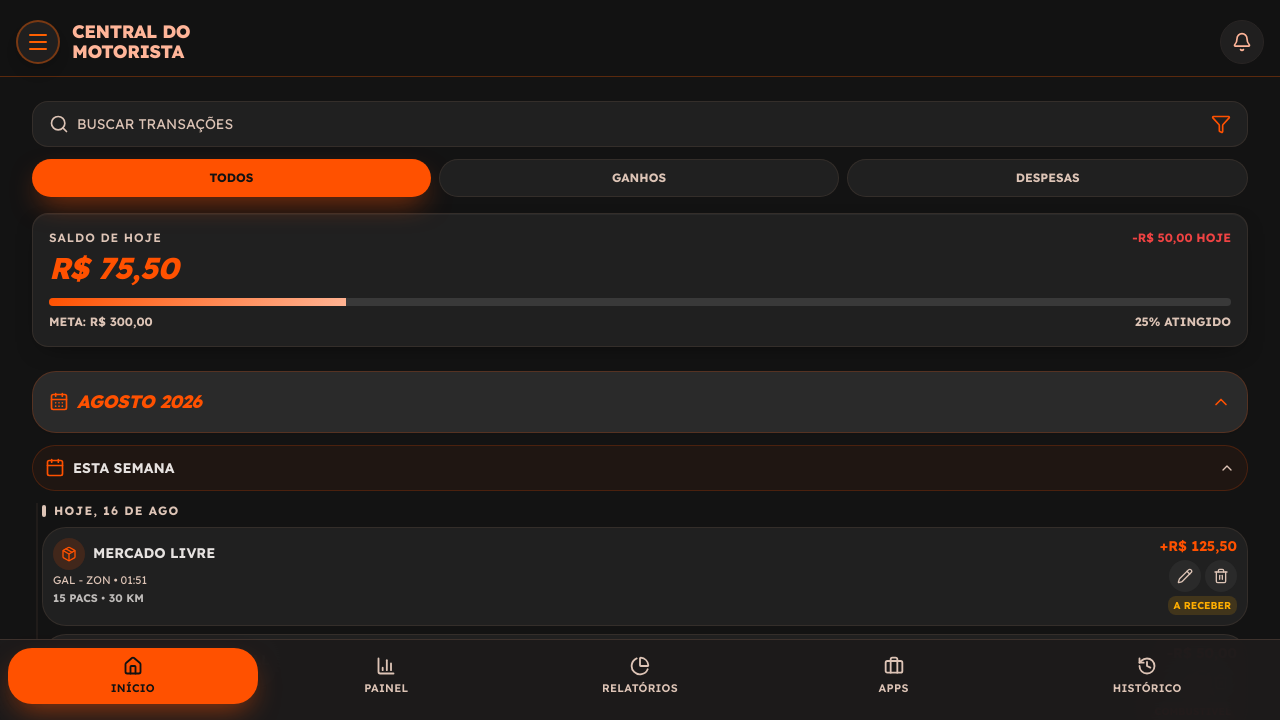
Scenario: Historico - Transactions Aggregation and Filtering › filters history by "Ganhos" and "Despesas" tabs
Expected: the text "MERCADO LIVRE" is shown, [93,545,215,563]
// Click "Ganhos" tab
Click the button "ganhos" at (639, 178), box [439,159,839,197]
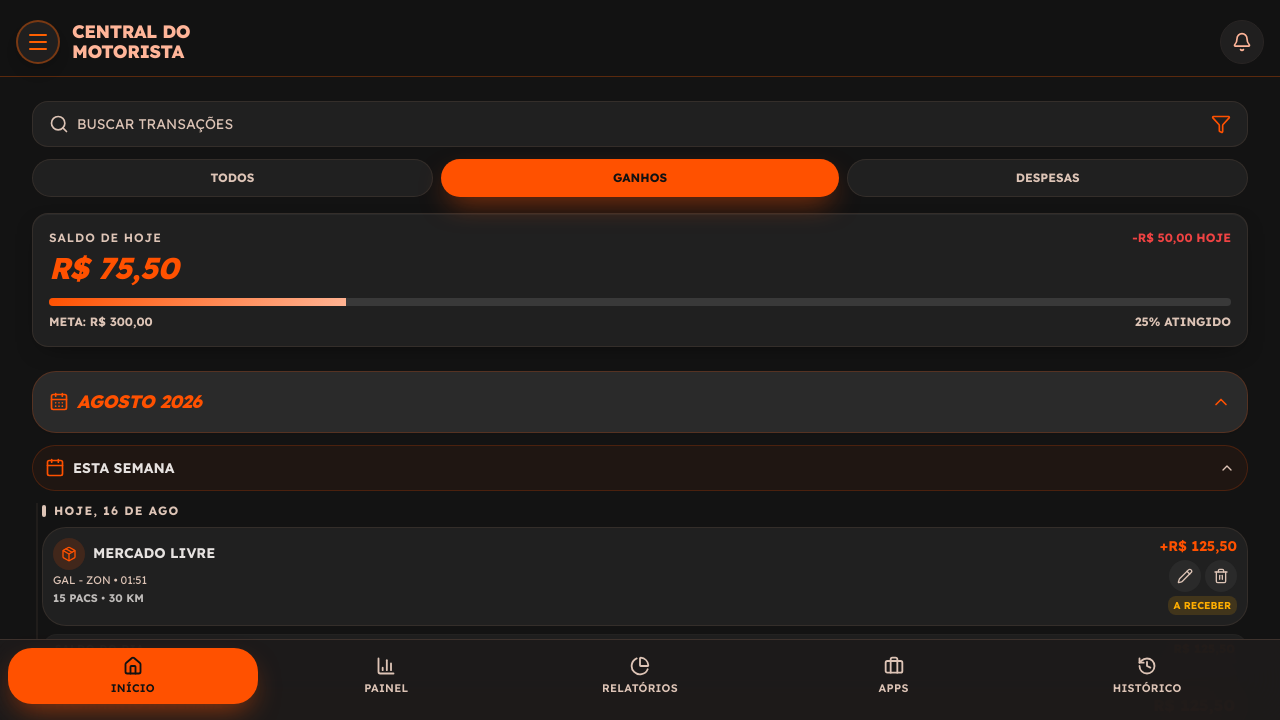
Expected: the text "MERCADO LIVRE" is shown, [93,545,215,563]
Expected: the text "ABASTECIMENTO SHELL" is not shown
// Click "Despesas" tab
Click the button "despesas" at (1048, 178), box [847,159,1248,197]
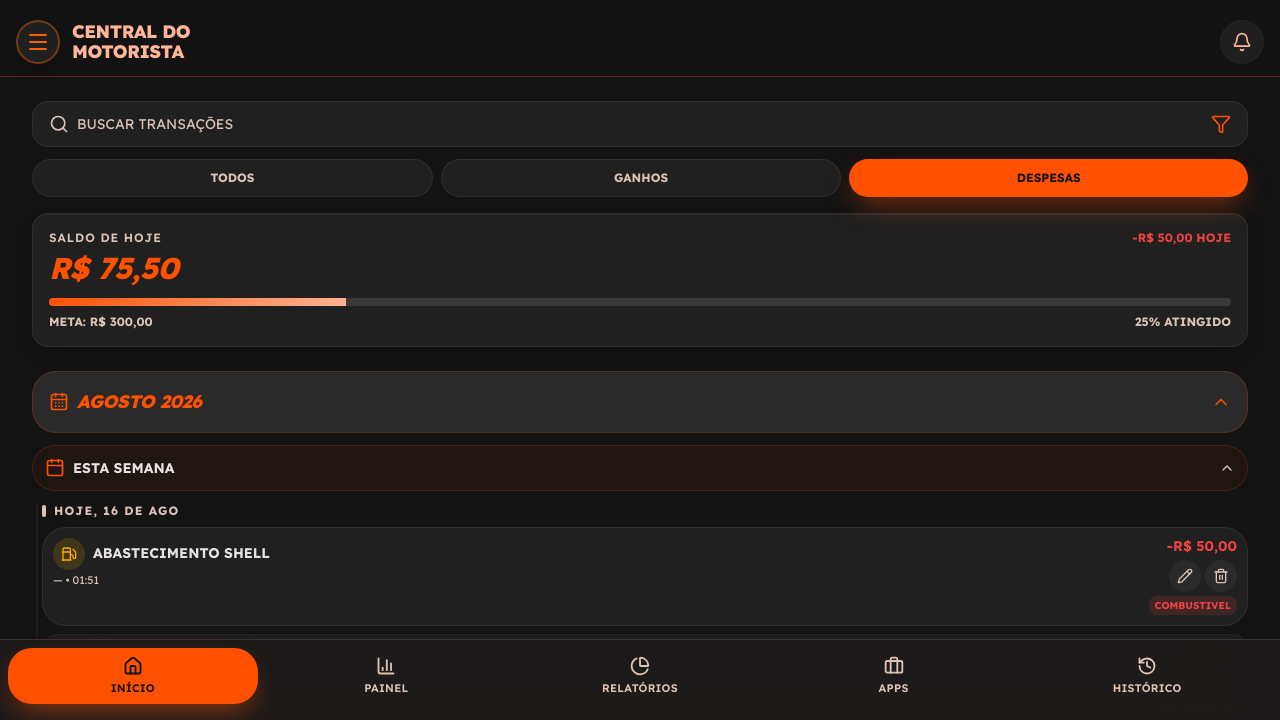
Result: the text "ABASTECIMENTO SHELL" is shown at [93,545,270,563]
Result: the text "MERCADO LIVRE" is gone
